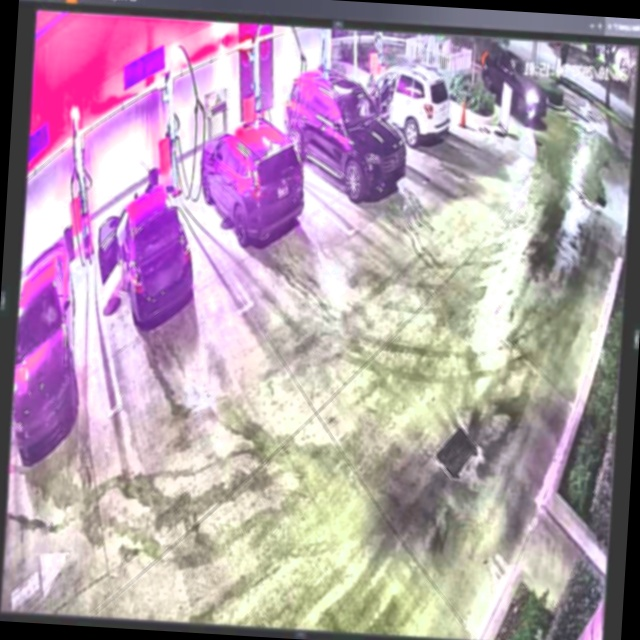Car: (281, 64, 409, 198), (196, 114, 311, 251), (93, 178, 201, 320)
